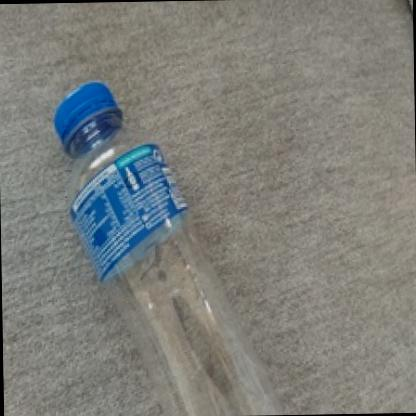plastic_bottles: (45, 76, 280, 416)
